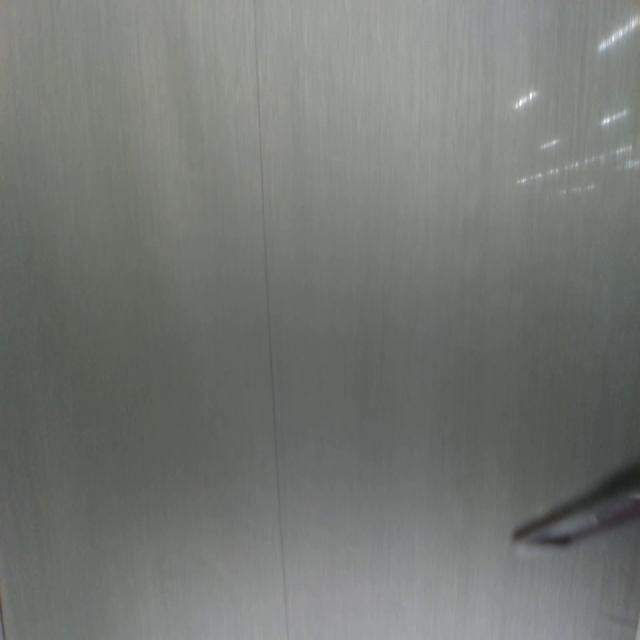crease: (253, 1, 291, 640)
